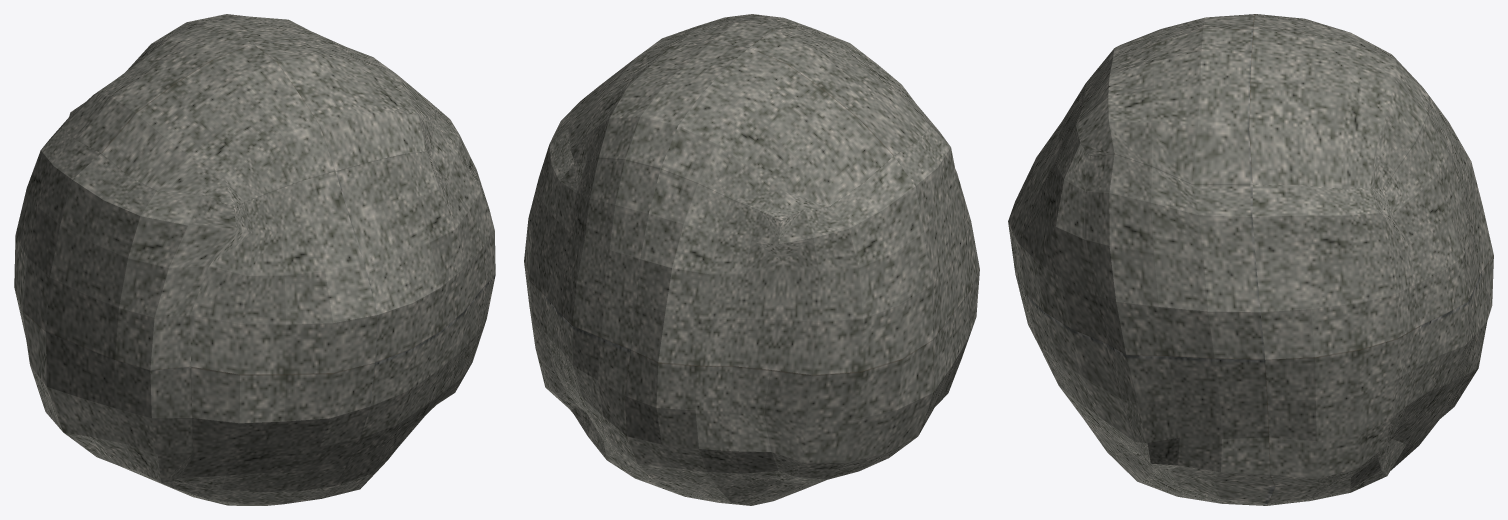
Rendered from SM_EC_Rock_27.fbx.
The picture shows the model from 3 angles, left to right: view 1: azimuth 30°, elevation 25°; view 2: azimuth 150°, elevation 25°; view 3: azimuth 270°, elevation 25°; orthographic projection. The views are drawn at different scales.
Visible parts, largest first — view 1: SM_EC_Rock_27; view 2: SM_EC_Rock_27; view 3: SM_EC_Rock_27.
Boxes of the visible parts, x1,y1,x2,y2 form: SM_EC_Rock_27: [14, 14, 495, 505]; SM_EC_Rock_27: [524, 14, 979, 505]; SM_EC_Rock_27: [1008, 14, 1493, 505].
Bounding box in the file's own units: 1.84 × 1.88 × 1.95.
